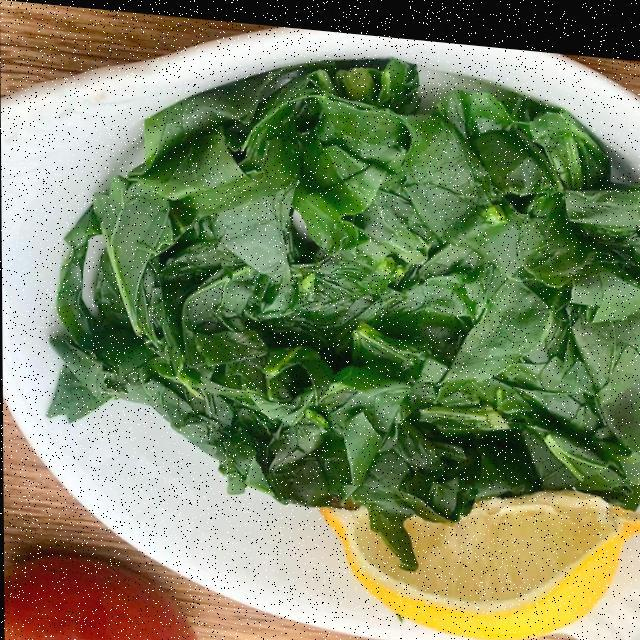Spinach: (21, 19, 640, 538)
